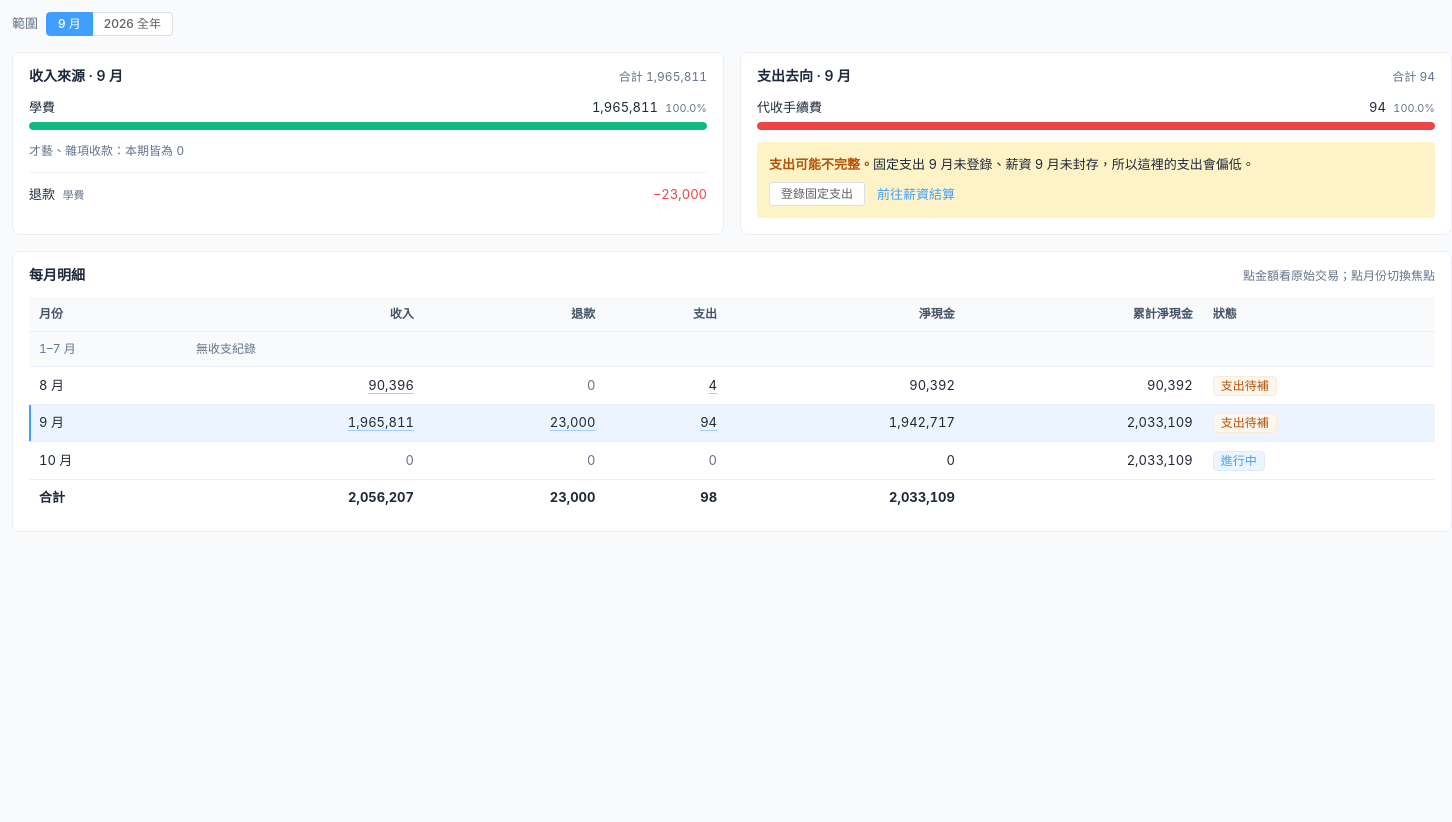
Test: 收入來源／支出去向 › 全年範圍：用年度資料、標出預登錄固定支出
The image size is (1452, 822).
Click the radio button labelled "2026 全年" at (133, 24), box [93, 12, 173, 36]
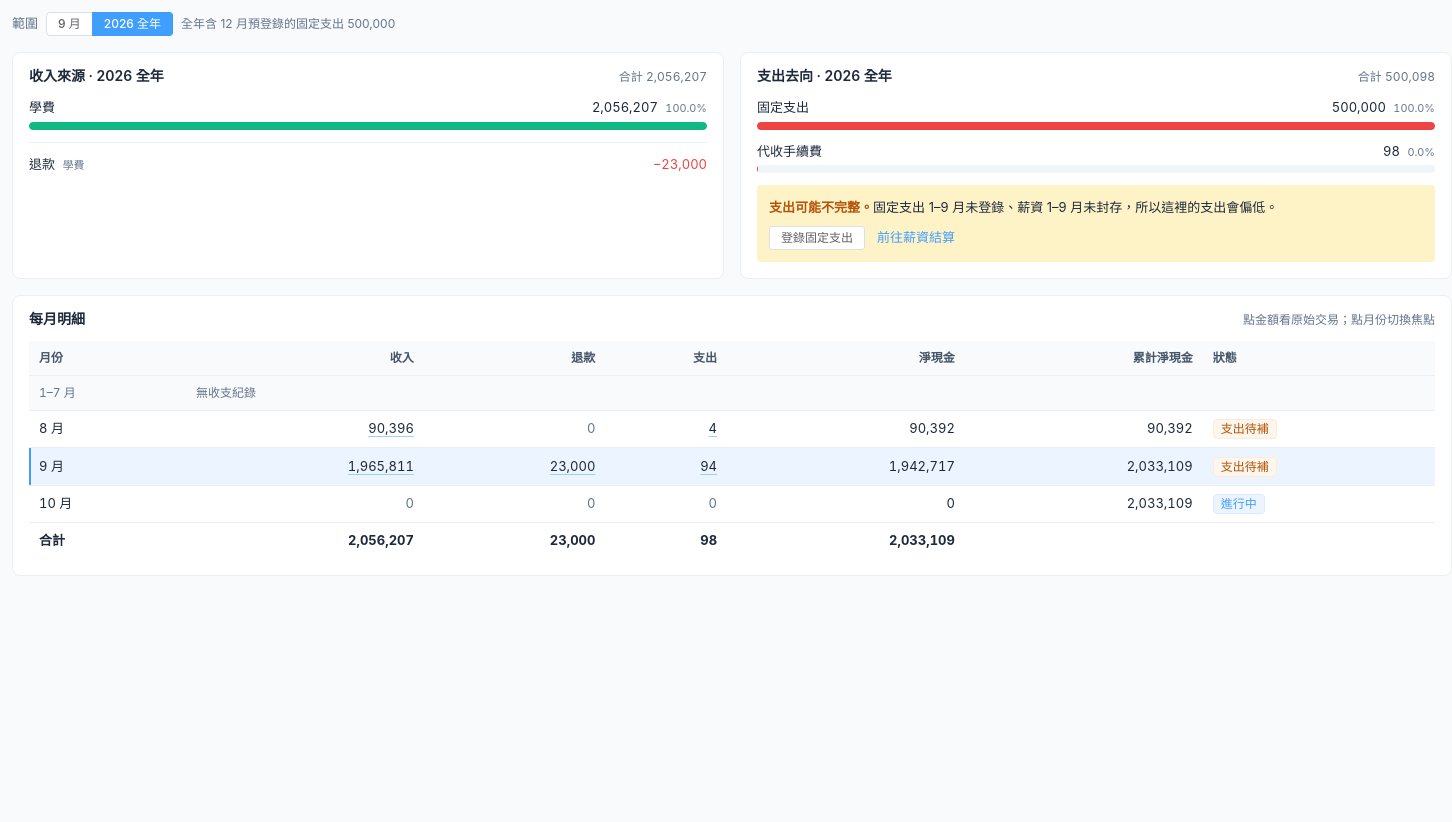
Expected: the element with test id "income-card" shows "2026 全年", [29, 67, 164, 84]
Expected: the text with test id "prelogged-note" shows "12 月預登錄的固定支出 500,000", [181, 16, 395, 31]
